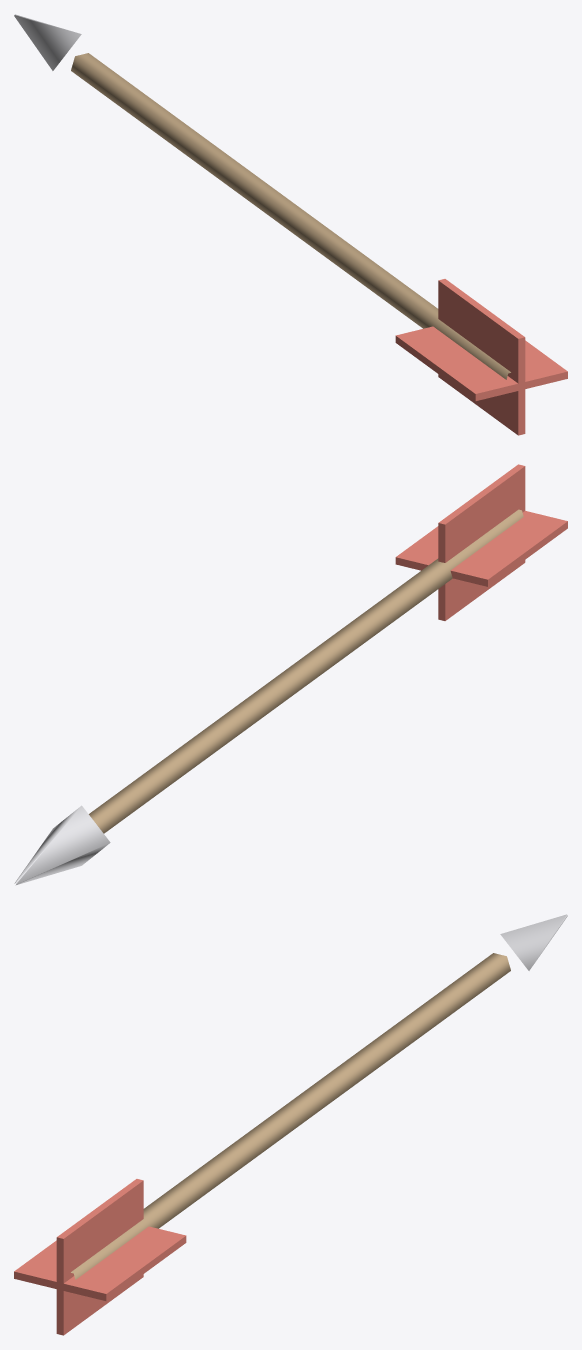
The model's file is Arrow.glb.
3 renders of one model, top to bottom at view 1: azimuth 30°, elevation 25°; view 2: azimuth 150°, elevation 25°; view 3: azimuth 330°, elevation 25°, orthographic.
Visible parts, largest first — view 1: Arrow; view 2: Arrow; view 3: Arrow.
Part boxes in pixels (box(x1,y1,x2,y2)): Arrow: box(14, 14, 567, 435); Arrow: box(14, 464, 567, 885); Arrow: box(14, 914, 567, 1335).
Bounding box in the file's own units: 0.08 × 0.08 × 0.76.
